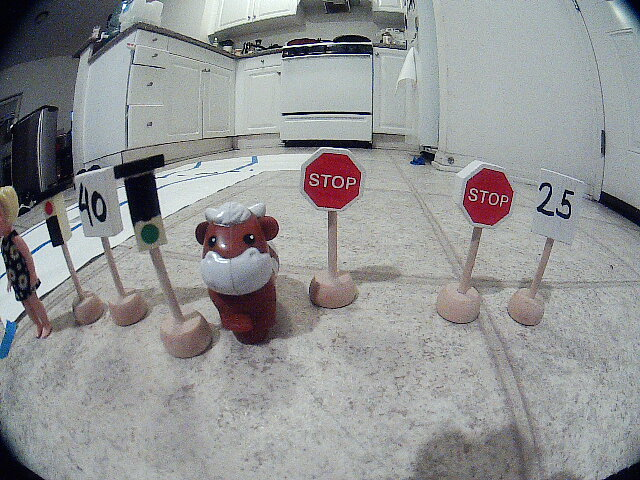Cow: (175, 199, 301, 353)
Green Traffic Light: (114, 162, 187, 265)
Red Traffic Light: (37, 186, 79, 256)
Speed Limit 25: (533, 160, 584, 245)
Speed Limit 40: (68, 169, 120, 240)
Stop Sign: (441, 152, 528, 242), (295, 137, 372, 223)
